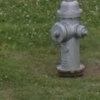Hydrant: (46, 2, 91, 81)
